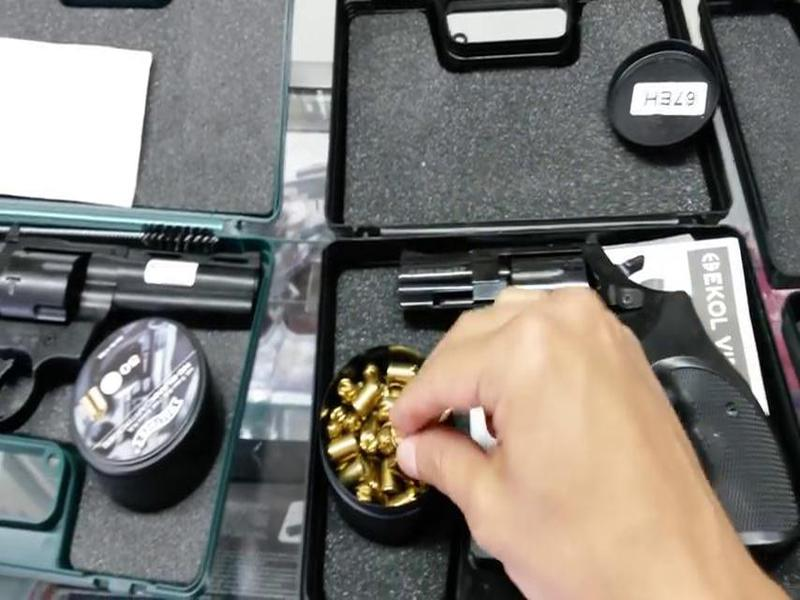Revolver: (1, 211, 272, 454)
